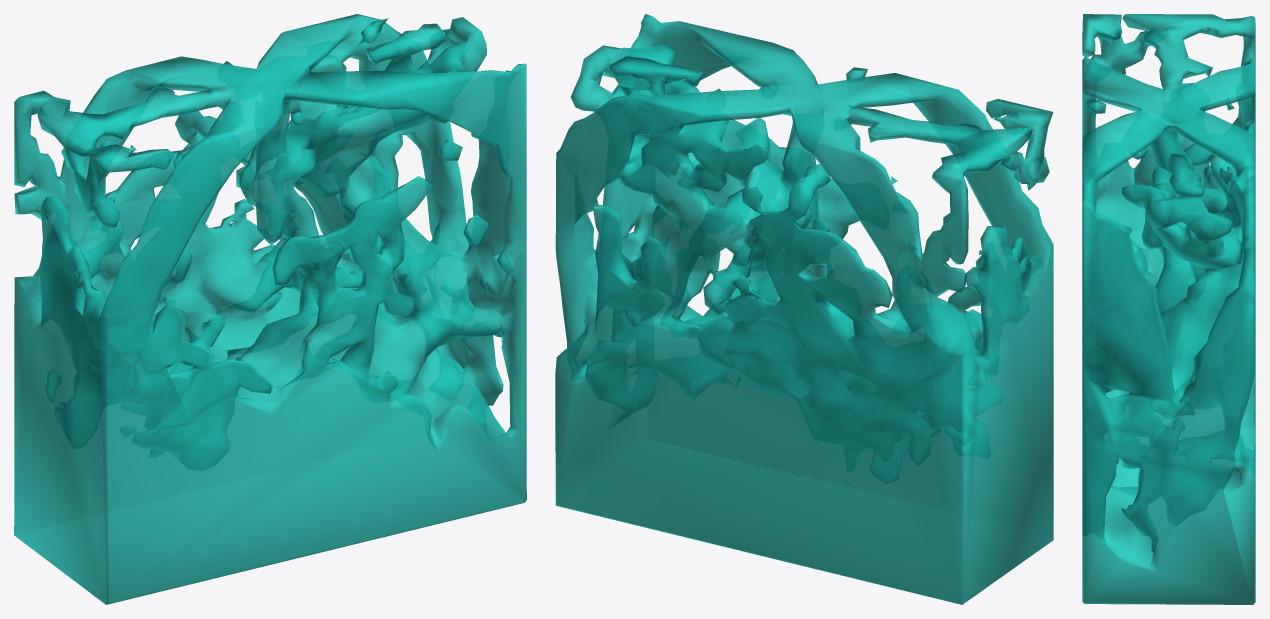
3 renders of one model, left to right at view 1: azimuth 30°, elevation 25°; view 2: azimuth 150°, elevation 25°; view 3: azimuth 270°, elevation 25°, orthographic. The views are drawn at different scales.
Visible parts, largest first — view 1: Liquid_Domain; view 2: Liquid_Domain; view 3: Liquid_Domain.
Part boxes in pixels (bbox=[...]): Liquid_Domain: bbox=[14, 14, 526, 604]; Liquid_Domain: bbox=[555, 14, 1053, 604]; Liquid_Domain: bbox=[1082, 14, 1255, 604].
Bounding box in the file's own units: 885 × 884 × 345.
